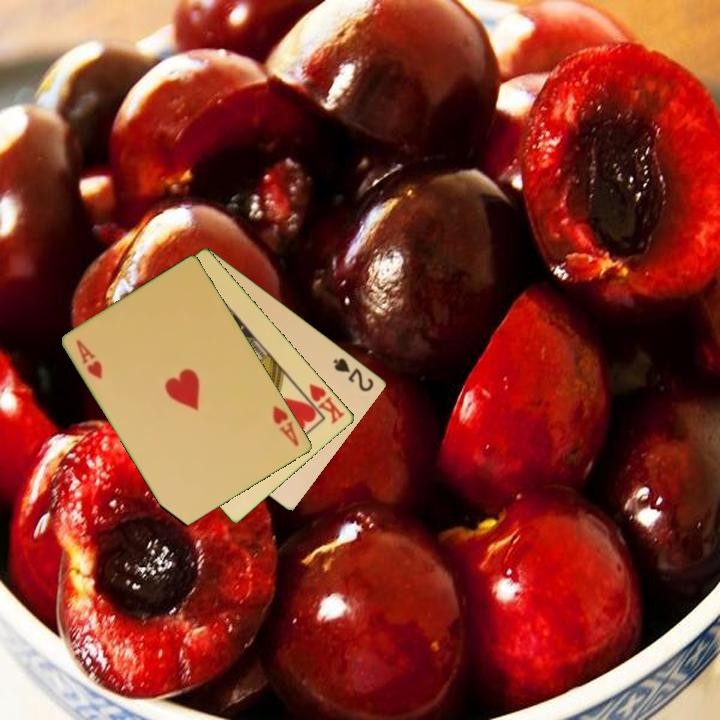2s: (330, 354, 377, 395)
Ah: (269, 402, 302, 449), (73, 336, 106, 382)
Kh: (297, 380, 348, 427)
